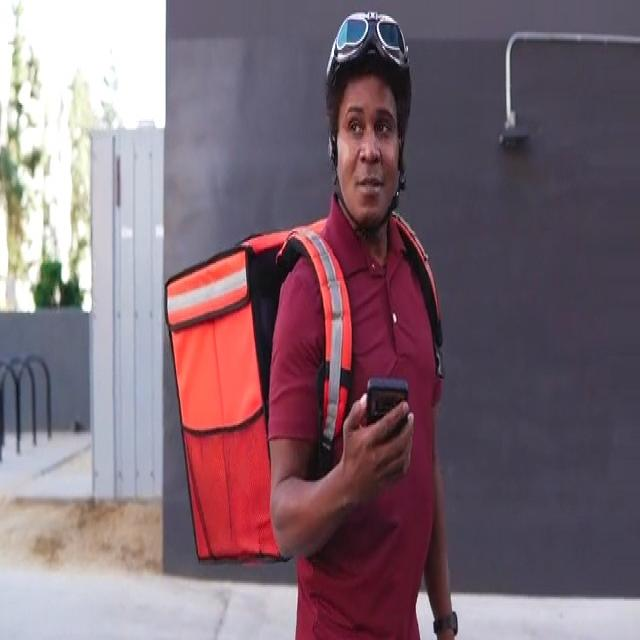Helmet_Wearer: (318, 8, 416, 249)
Person: (268, 0, 468, 640)
